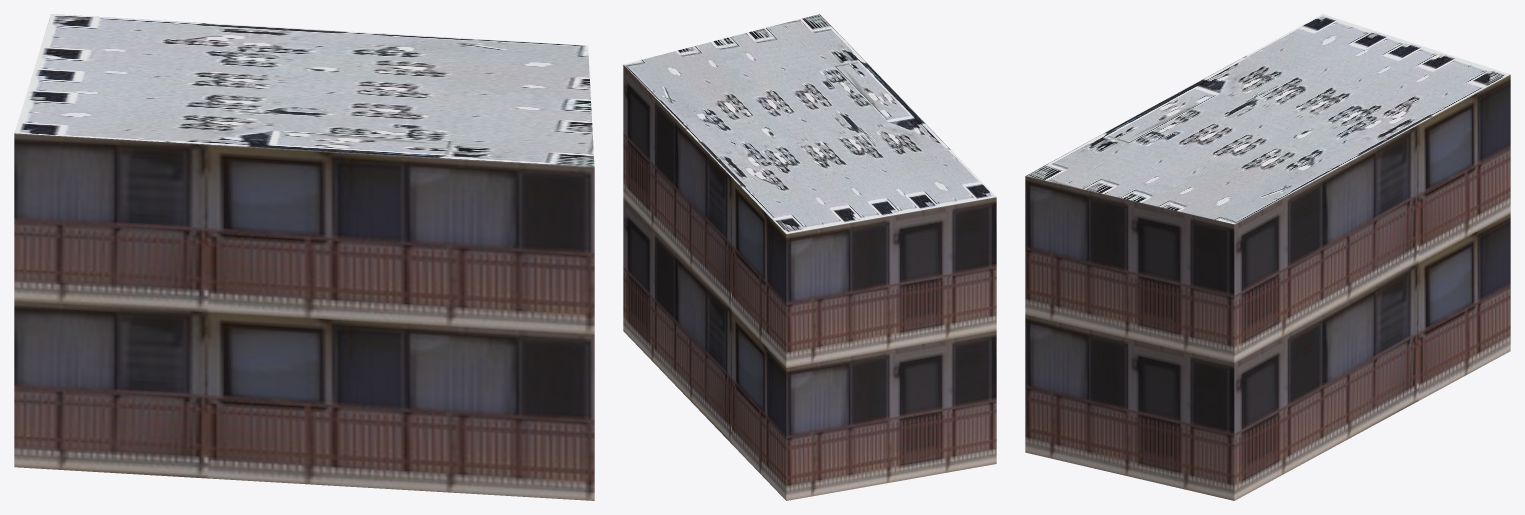
The model's file is ResTex__190.fbx.
The picture shows the model from 3 angles, left to right: view 1: azimuth 30°, elevation 25°; view 2: azimuth 150°, elevation 25°; view 3: azimuth 270°, elevation 25°; orthographic projection. The views are drawn at different scales.
Visible parts, largest first — view 1: CityEngineMaterial_6_m, CityEngineMaterial_8_m; view 2: CityEngineMaterial_6_m, CityEngineMaterial_8_m; view 3: CityEngineMaterial_6_m, CityEngineMaterial_8_m.
Part boxes in pixels (bbox=[...]): CityEngineMaterial_6_m: bbox=[14, 133, 594, 500]; CityEngineMaterial_8_m: bbox=[14, 14, 594, 166]; CityEngineMaterial_6_m: bbox=[623, 65, 996, 500]; CityEngineMaterial_8_m: bbox=[623, 14, 996, 233]; CityEngineMaterial_6_m: bbox=[1025, 74, 1510, 500]; CityEngineMaterial_8_m: bbox=[1026, 14, 1509, 224].
Bounding box in the file's own units: 9.79 × 6 × 9.54.
2 materials, 2 textured.
